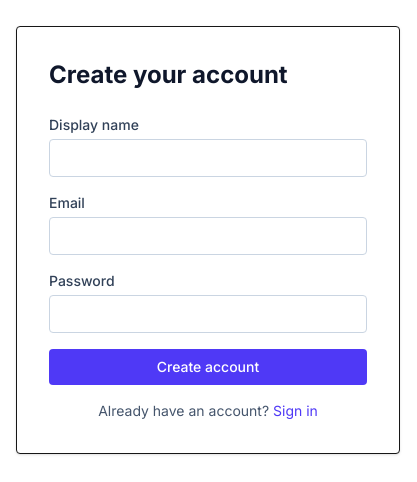
Test case: RegisterPage › shows password required error when password is empty
Type "Alice" into the field labelled "Display name" at (208, 158), box left=49, top=139, right=367, bottom=177
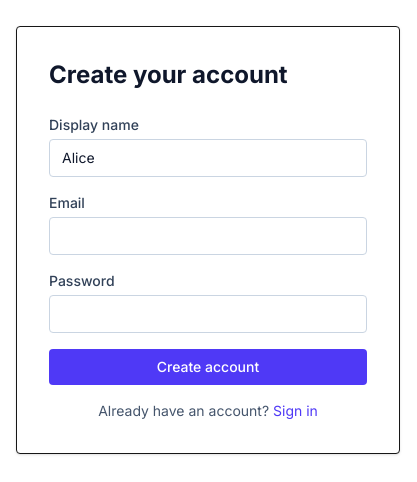
Type "alice@example.com" into the field labelled "Email" at (208, 236), box left=49, top=217, right=367, bottom=255
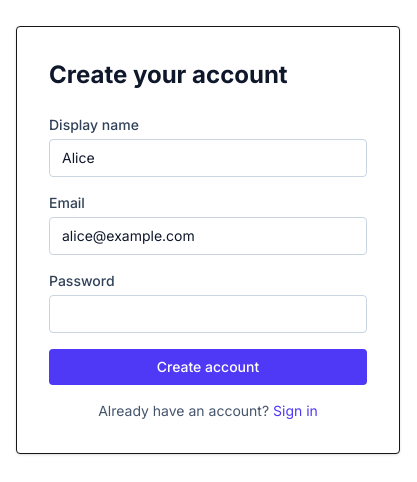
Click the button "Create account" at (208, 367), box left=49, top=349, right=367, bottom=385
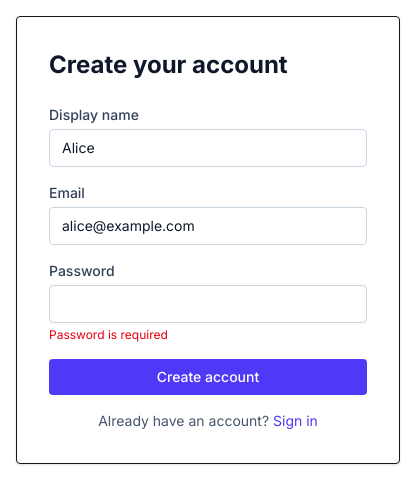
Expected: the text "Password is required" is shown, left=49, top=327, right=168, bottom=342
